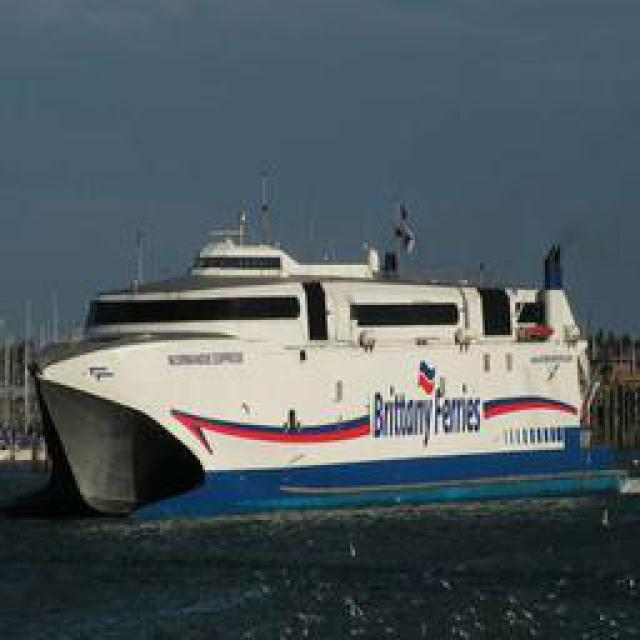Ship: (27, 208, 615, 516)
